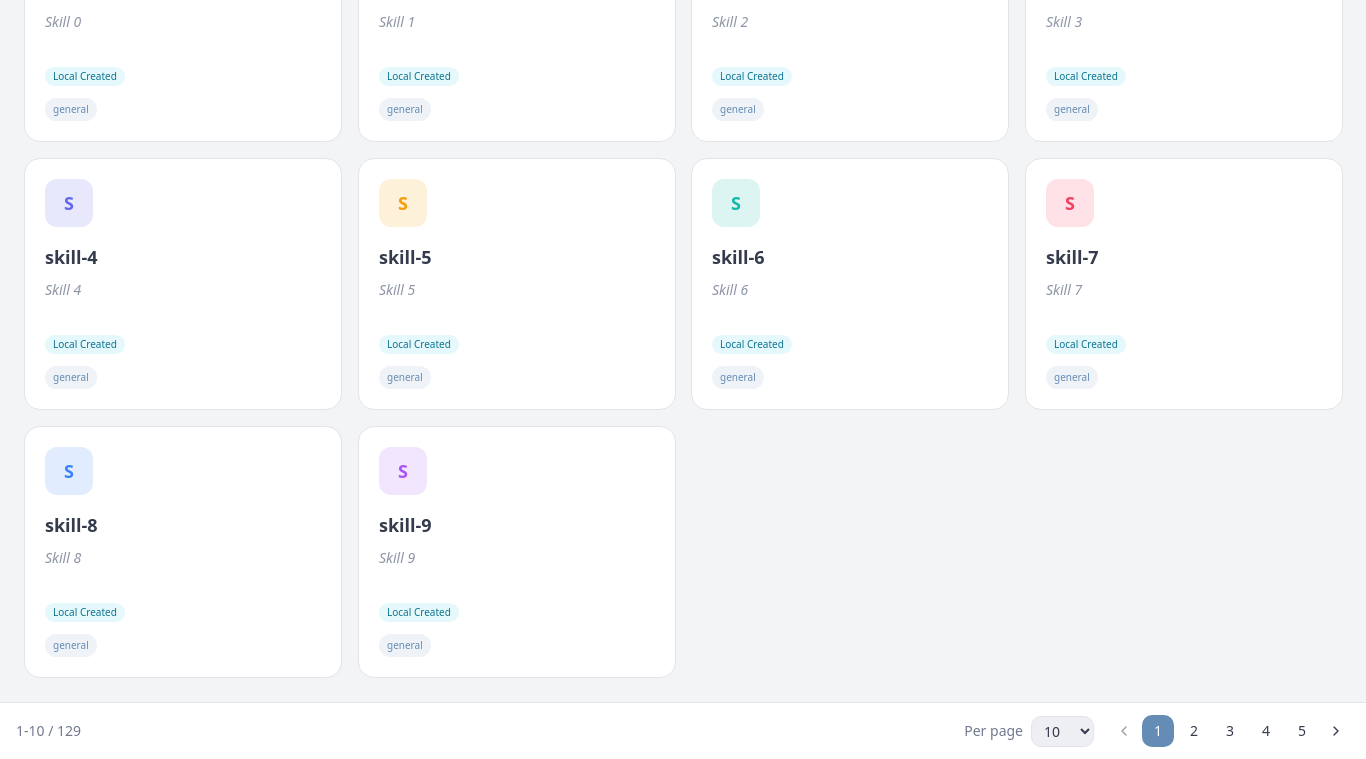
Scenario: skill i18n smoke › paginates large skill lists
The width and height of the screenshot is (1366, 759).
(page scrolled)
Check: the text "skill-10" is not shown
Click the button "2" at [1194, 731], box [1178, 715, 1210, 747]
(page scrolled)
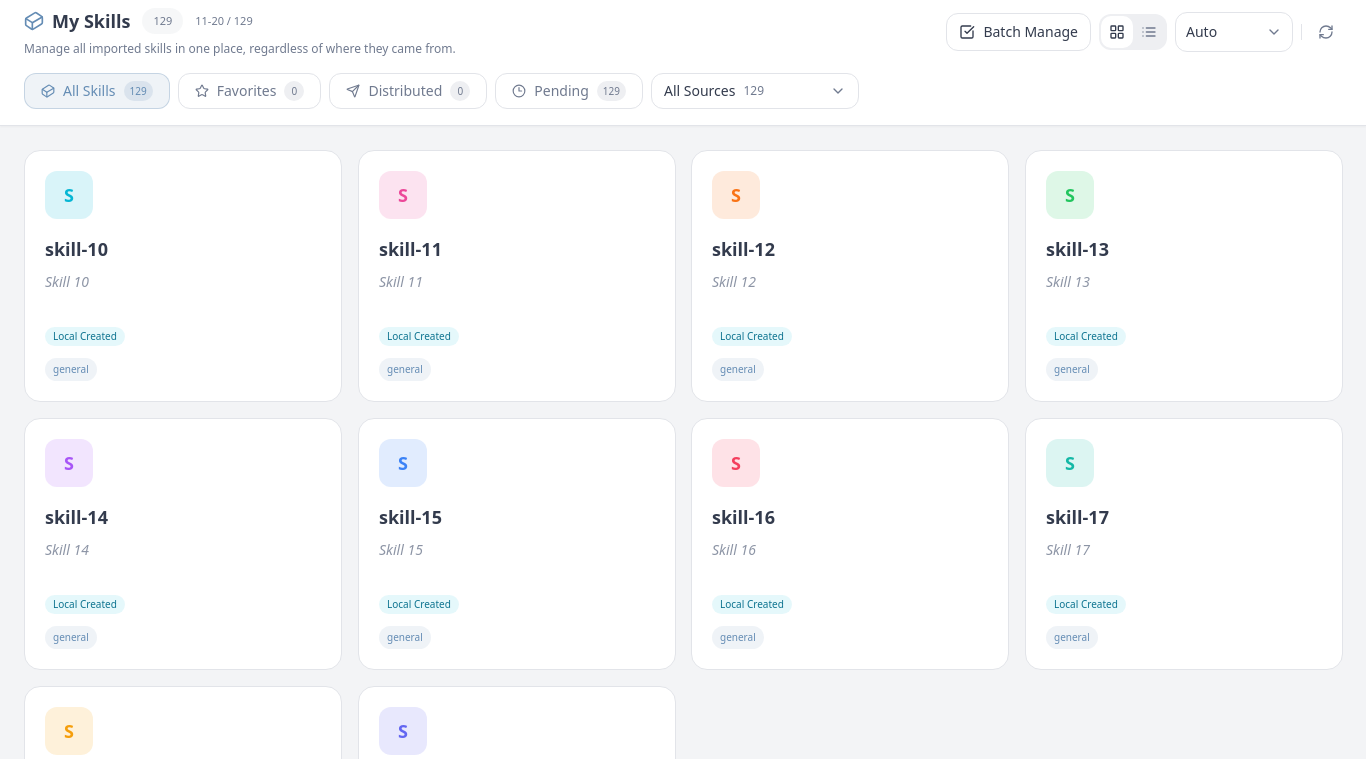
Check: the text "11-20 / 129" is shown, box [195, 13, 253, 29]
Check: the heading "skill-10" is shown, box [45, 237, 108, 261]
